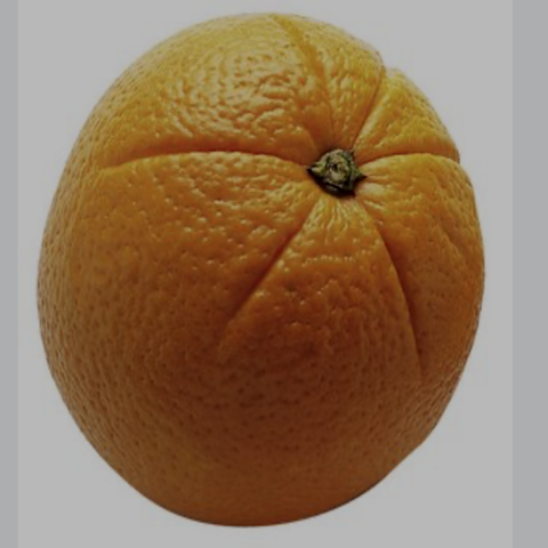orange: (21, 9, 525, 534)
